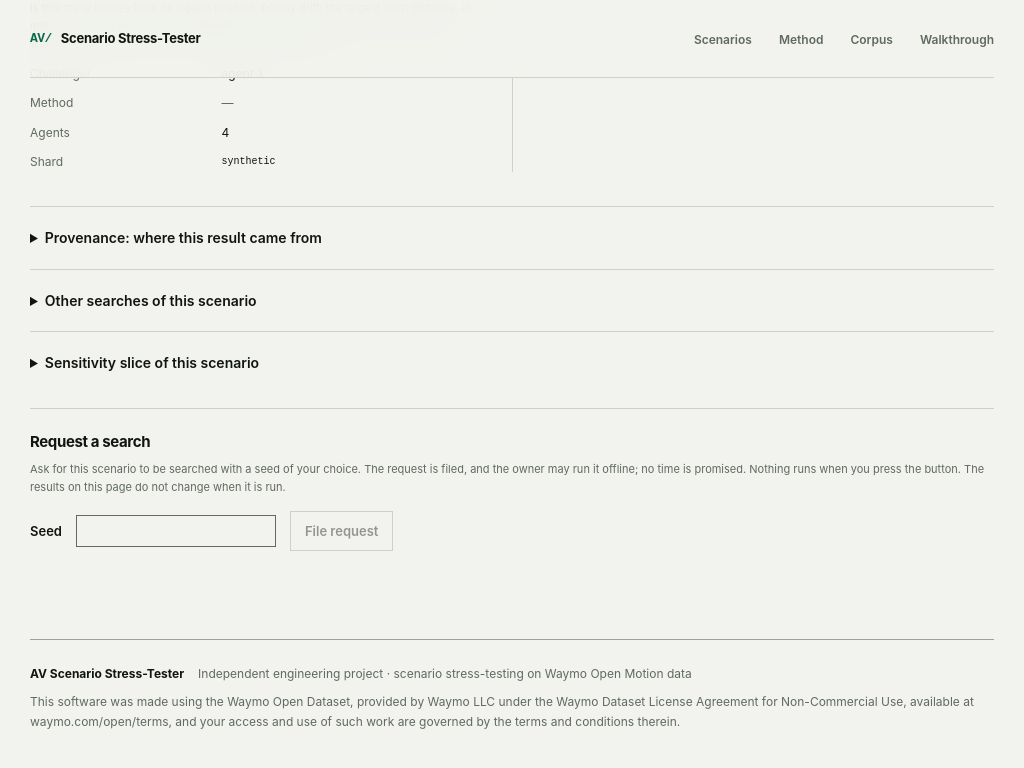
the words the project cannot back do not appear › on the request form, with a limit reached
(page scrolled)
Step 1. Type "3" into the field labelled "Seed" → {"x": 176, "y": 531}, box [76,514,276,547]
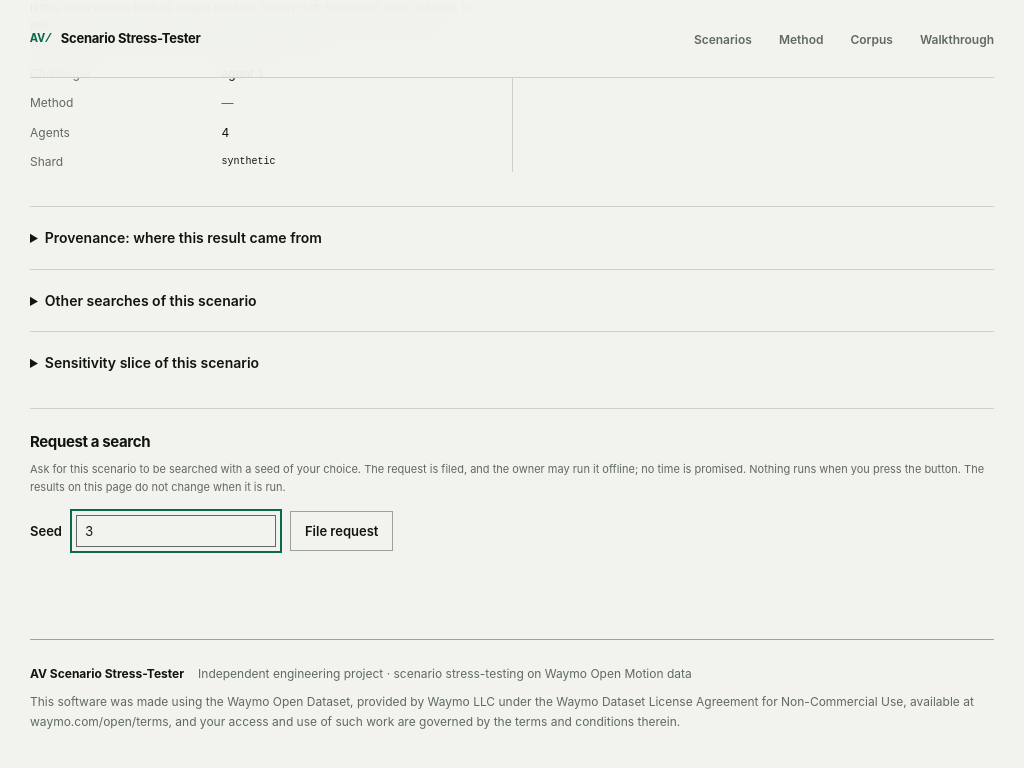
Step 2. Click the button "File request" → {"x": 342, "y": 531}, box [290,510,394,551]
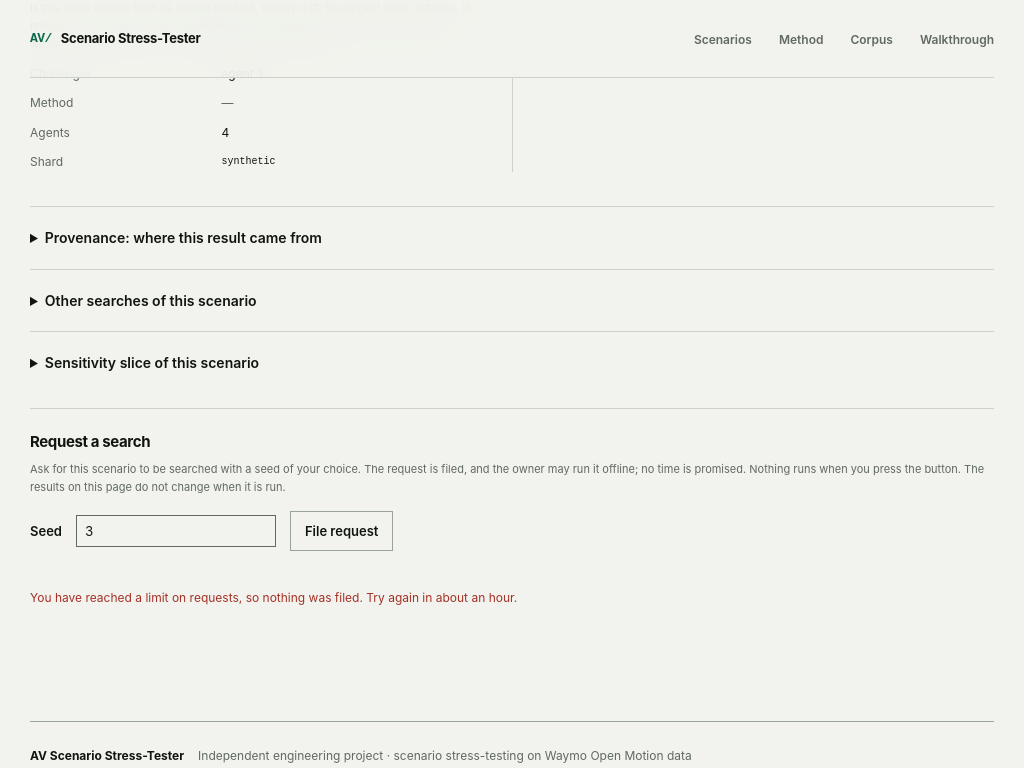
Result: the text "reached a limit" is shown at [30,590,517,605]
